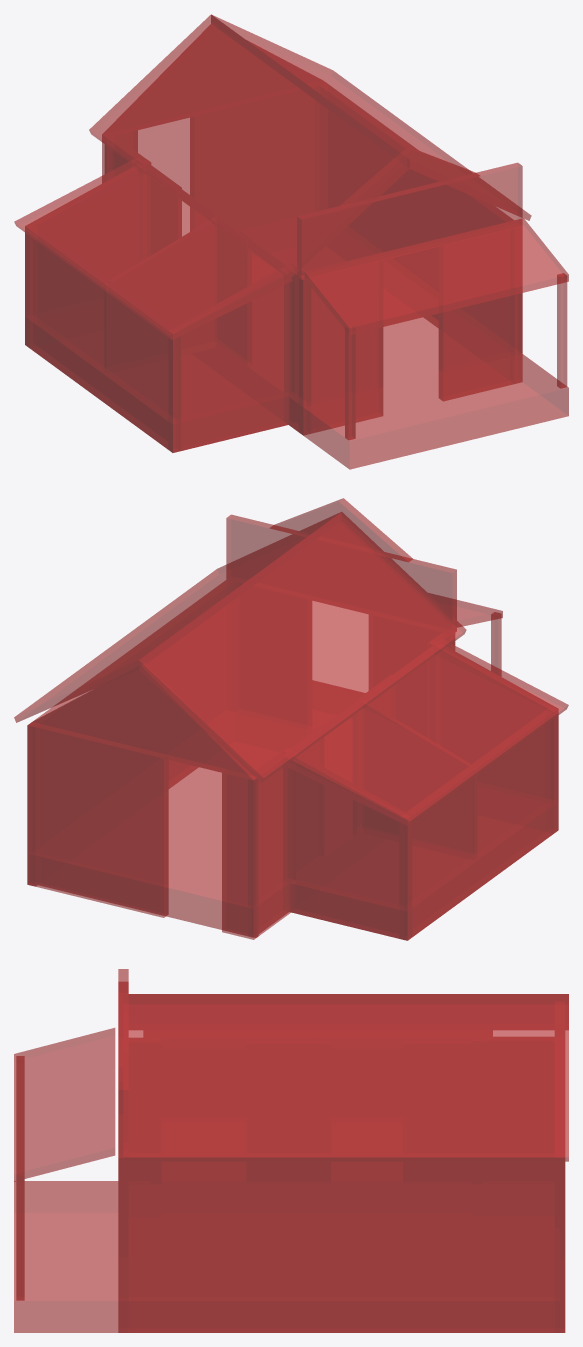
File: SM_Bld_Jail_01_Collision.fbx
3 renders of one model, top to bottom at view 1: azimuth 30°, elevation 25°; view 2: azimuth 150°, elevation 25°; view 3: azimuth 270°, elevation 25°, orthographic. The views are drawn at different scales.
Parts seen in each view (by area): view 1: SM_Bld_Jail_01_Collision; view 2: SM_Bld_Jail_01_Collision; view 3: SM_Bld_Jail_01_Collision.
Boxes of the visible parts, x1=… form: SM_Bld_Jail_01_Collision: x1=14, y1=14, x2=568, y2=469; SM_Bld_Jail_01_Collision: x1=14, y1=498, x2=568, y2=940; SM_Bld_Jail_01_Collision: x1=14, y1=969, x2=568, y2=1332.
Bounding box in the file's own units: 828 × 581 × 1005.
